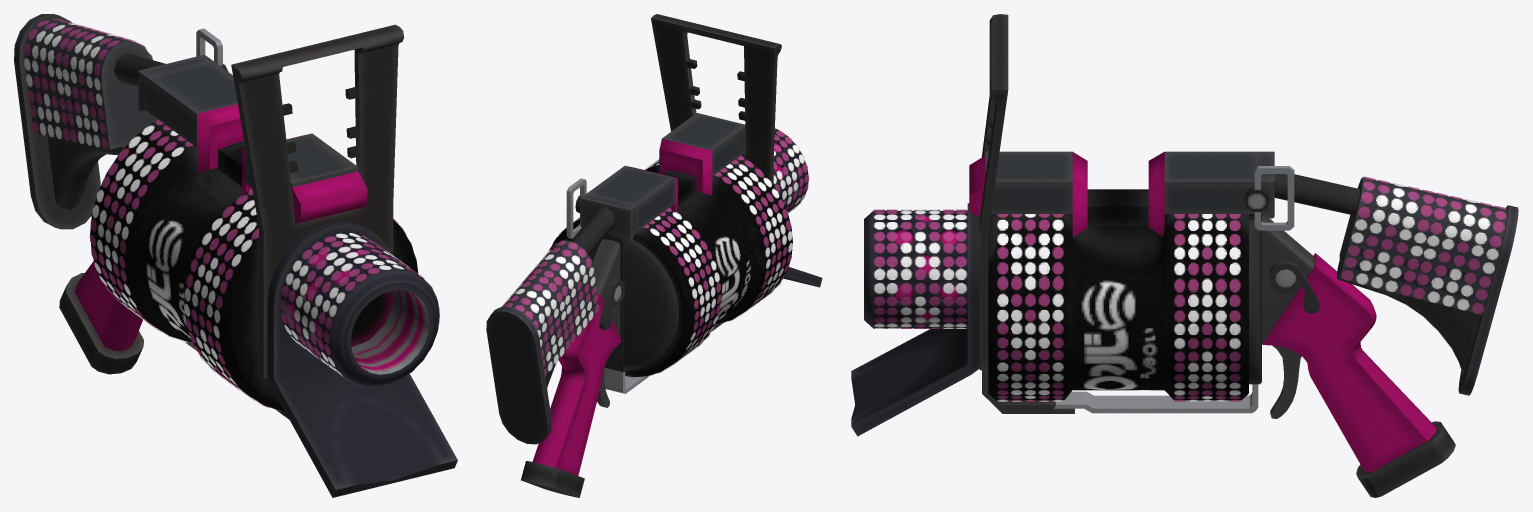
3 views of the same model, side by side, from view 1: azimuth 30°, elevation 25°; view 2: azimuth 150°, elevation 25°; view 3: azimuth 270°, elevation 25° (orthographic). The views are drawn at different scales.
Visible parts, largest first — view 1: Object_6_Barrel_000_low1__M_Body_M_Body_0, Object_8_Barrel_000_low4__M_DecoSticker_Cstm01_M_DecoSticker; view 2: Object_6_Barrel_000_low1__M_Body_M_Body_0, Object_8_Barrel_000_low4__M_DecoSticker_Cstm01_M_DecoSticker; view 3: Object_6_Barrel_000_low1__M_Body_M_Body_0, Object_8_Barrel_000_low4__M_DecoSticker_Cstm01_M_DecoSticker.
Part boxes in pixels (bbox=[...]): Object_6_Barrel_000_low1__M_Body_M_Body_0: bbox=[14, 14, 457, 497]; Object_8_Barrel_000_low4__M_DecoSticker_Cstm01_M_DecoSticker: bbox=[24, 19, 439, 411]; Object_6_Barrel_000_low1__M_Body_M_Body_0: bbox=[486, 14, 822, 497]; Object_8_Barrel_000_low4__M_DecoSticker_Cstm01_M_DecoSticker: bbox=[502, 128, 809, 377]; Object_6_Barrel_000_low1__M_Body_M_Body_0: bbox=[851, 14, 1518, 497]; Object_8_Barrel_000_low4__M_DecoSticker_Cstm01_M_DecoSticker: bbox=[873, 176, 1506, 401].
Size of the model in its own units: 0.4325 by 0.9723 by 1.33.
2 materials, 2 textured.
